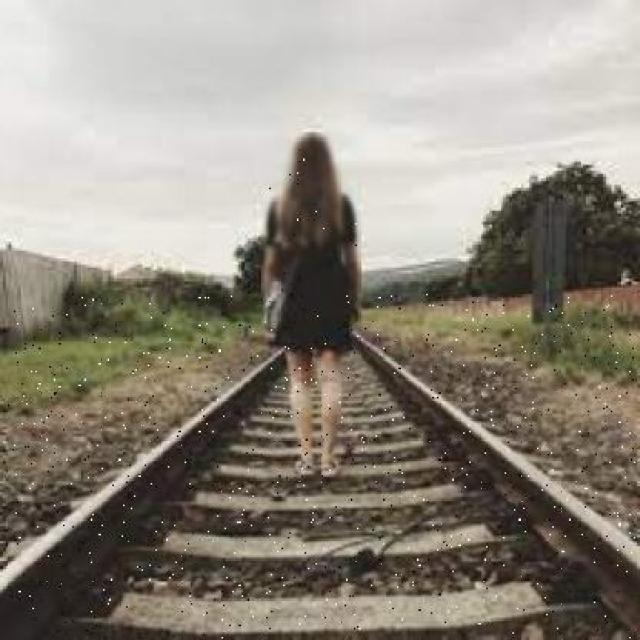danger: (260, 133, 362, 478)
rail: (8, 295, 637, 638)
